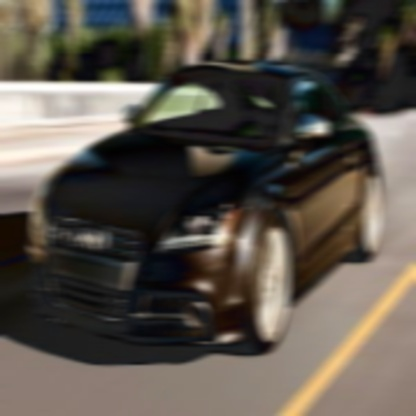Vehicle: (31, 66, 386, 356)
